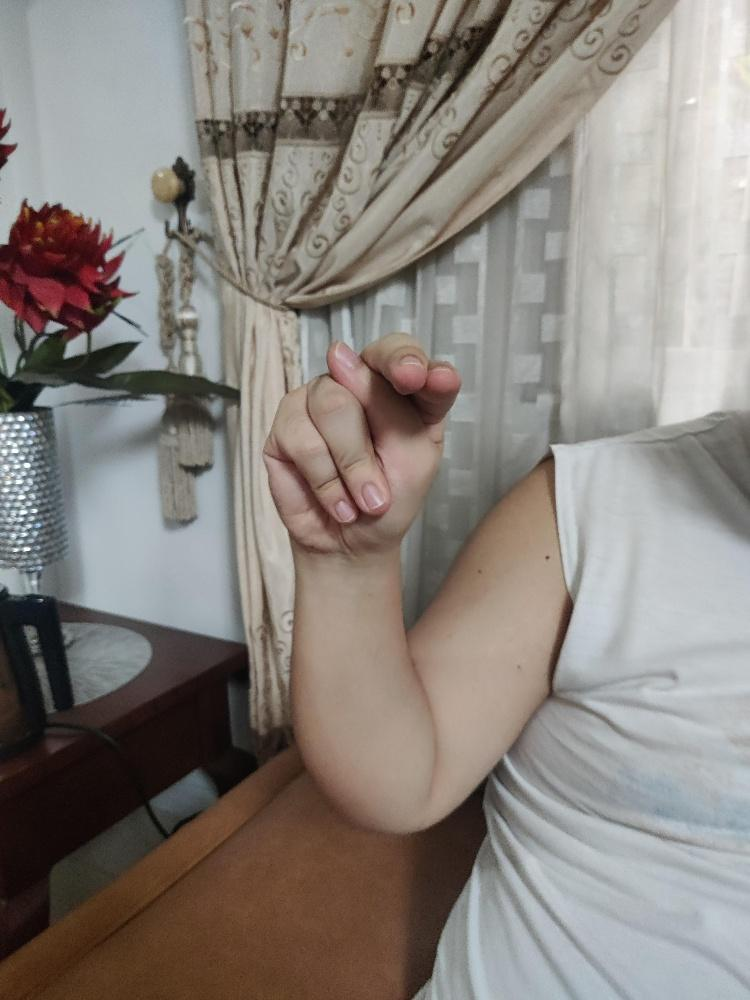n: (260, 329, 463, 558)
